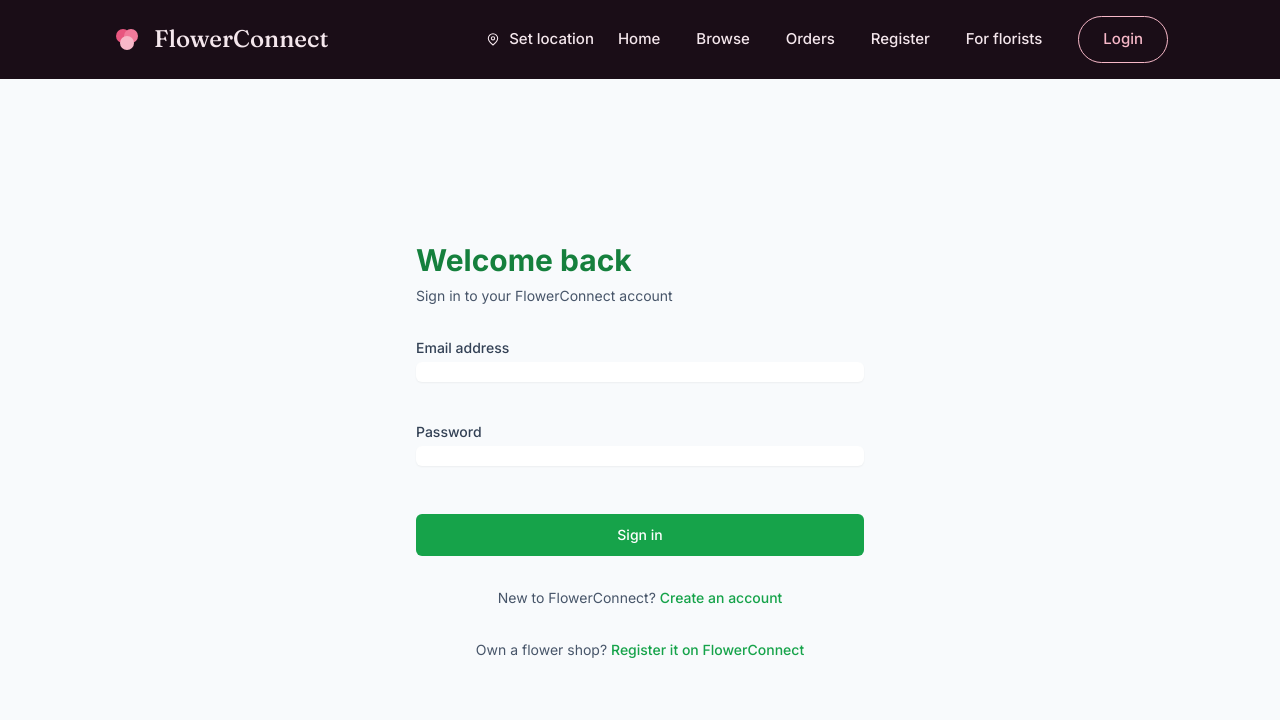
Test: vendor entry point › is reachable from the login page
Click the link "Register it on FlowerConnect": (708, 649) [611, 640, 804, 658]
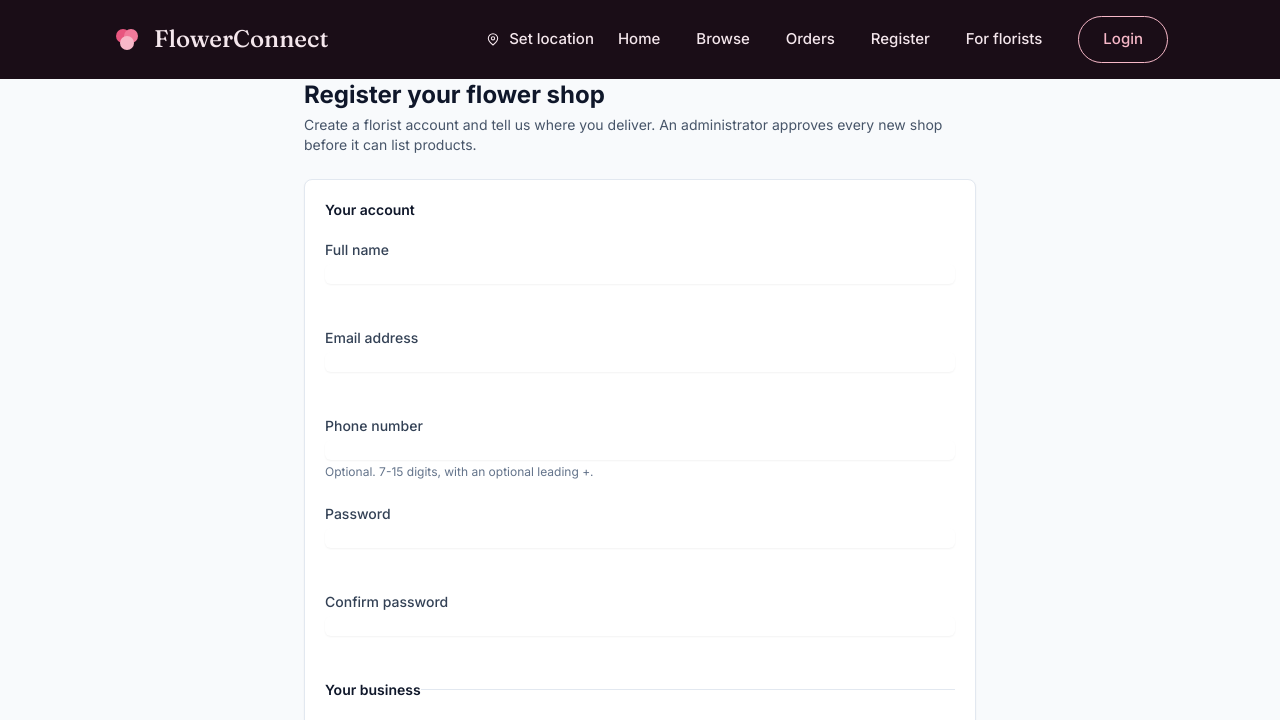
Check: the heading "Register your flower shop" is shown, box [304, 80, 605, 108]
